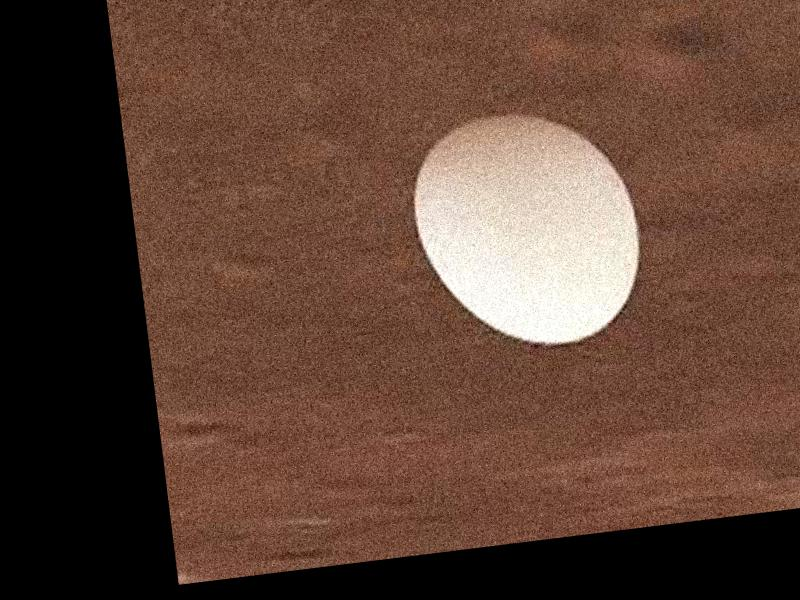Eggs: (402, 101, 651, 358)
